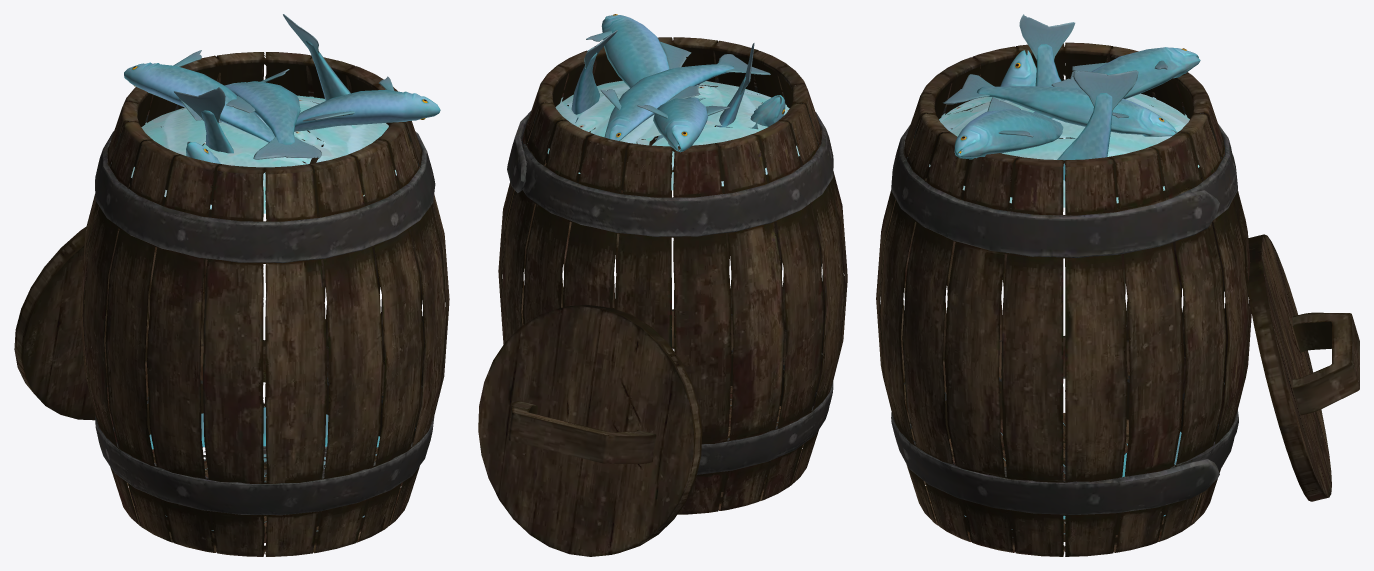
3 renders of one model, left to right at view 1: azimuth 30°, elevation 25°; view 2: azimuth 150°, elevation 25°; view 3: azimuth 270°, elevation 25°, orthographic. The views are drawn at different scales.
Parts seen in each view (by area): view 1: SM_Fishing_Barrel_01_LOD0; view 2: SM_Fishing_Barrel_01_LOD0; view 3: SM_Fishing_Barrel_01_LOD0.
Part boxes in pixels (box(x1,y1,x2,y2)): SM_Fishing_Barrel_01_LOD0: box(14, 14, 449, 556); SM_Fishing_Barrel_01_LOD0: box(478, 14, 847, 556); SM_Fishing_Barrel_01_LOD0: box(876, 14, 1359, 556).
Size of the model in its own units: 0.8099 by 1.08 by 1.04.
3 materials, 3 textured.
